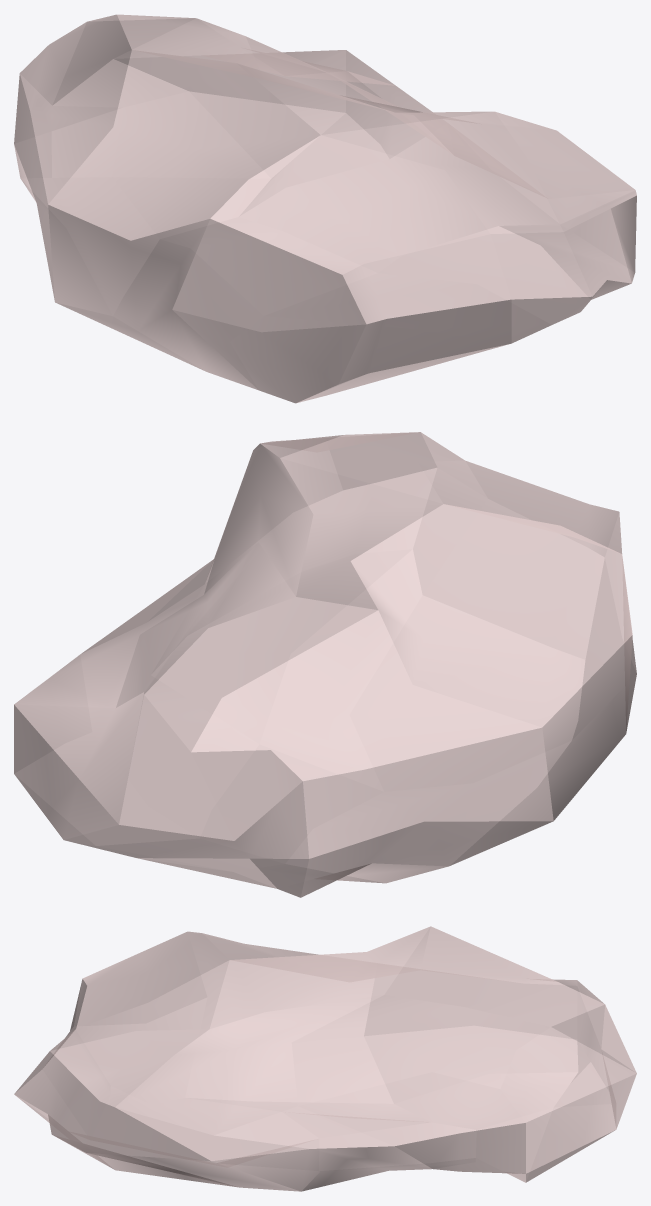
Rendered from Cloud_pink.fbx.
3 views of the same model, one above another, from view 1: azimuth 30°, elevation 25°; view 2: azimuth 150°, elevation 25°; view 3: azimuth 270°, elevation 25° (orthographic). The views are drawn at different scales.
Visible parts, largest first — view 1: Cloud_Pink; view 2: Cloud_Pink; view 3: Cloud_Pink.
Part boxes in pixels (x1,y1,x2,y2): Cloud_Pink: (14,14,636,403); Cloud_Pink: (14,432,636,897); Cloud_Pink: (14,926,636,1191).
Size of the model in its own units: 3.65 by 2.01 by 5.7.
